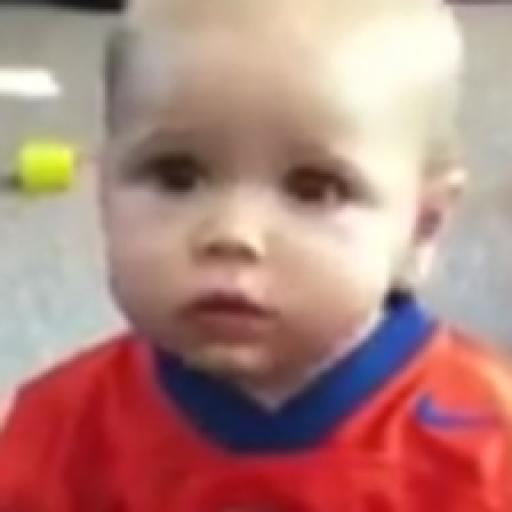Autism: (99, 2, 512, 421)
